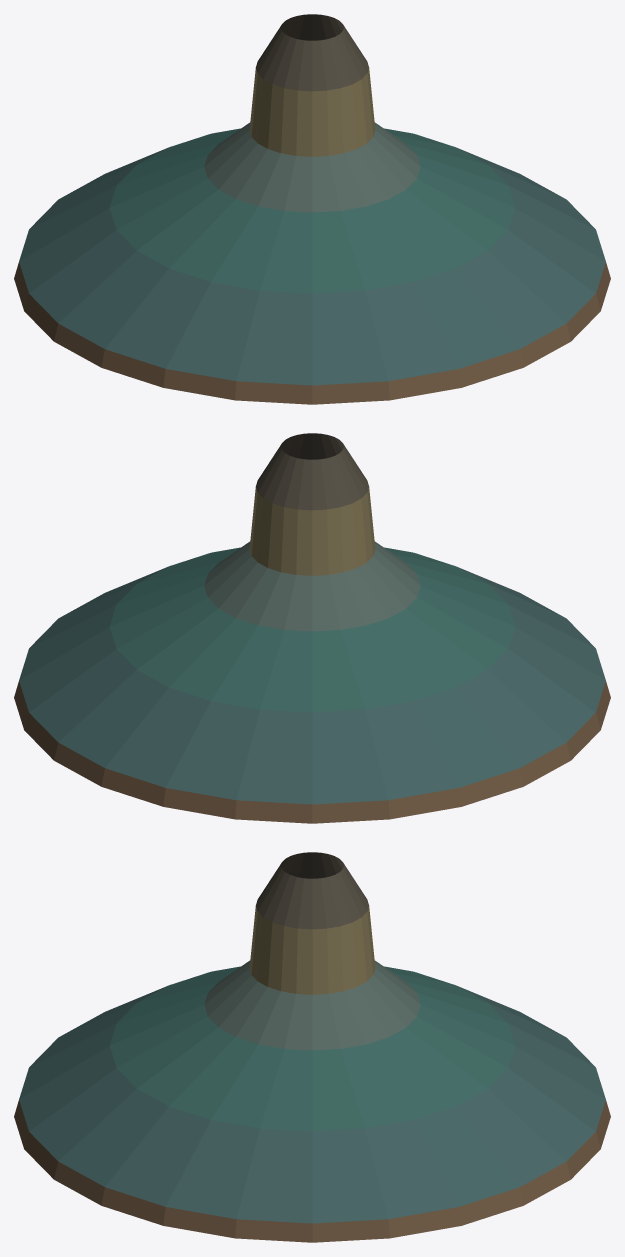
File: EnamelShade.glb
The picture shows the model from 3 angles, top to bottom: view 1: azimuth 30°, elevation 25°; view 2: azimuth 150°, elevation 25°; view 3: azimuth 270°, elevation 25°; orthographic projection.
Parts seen in each view (by area): view 1: EnamelShade; view 2: EnamelShade; view 3: EnamelShade.
Boxes of the visible parts, bbox=[...] form: EnamelShade: bbox=[14, 14, 610, 404]; EnamelShade: bbox=[14, 433, 610, 823]; EnamelShade: bbox=[14, 852, 610, 1242].
Bounding box in the file's own units: 0.474 × 0.3 × 0.474.
